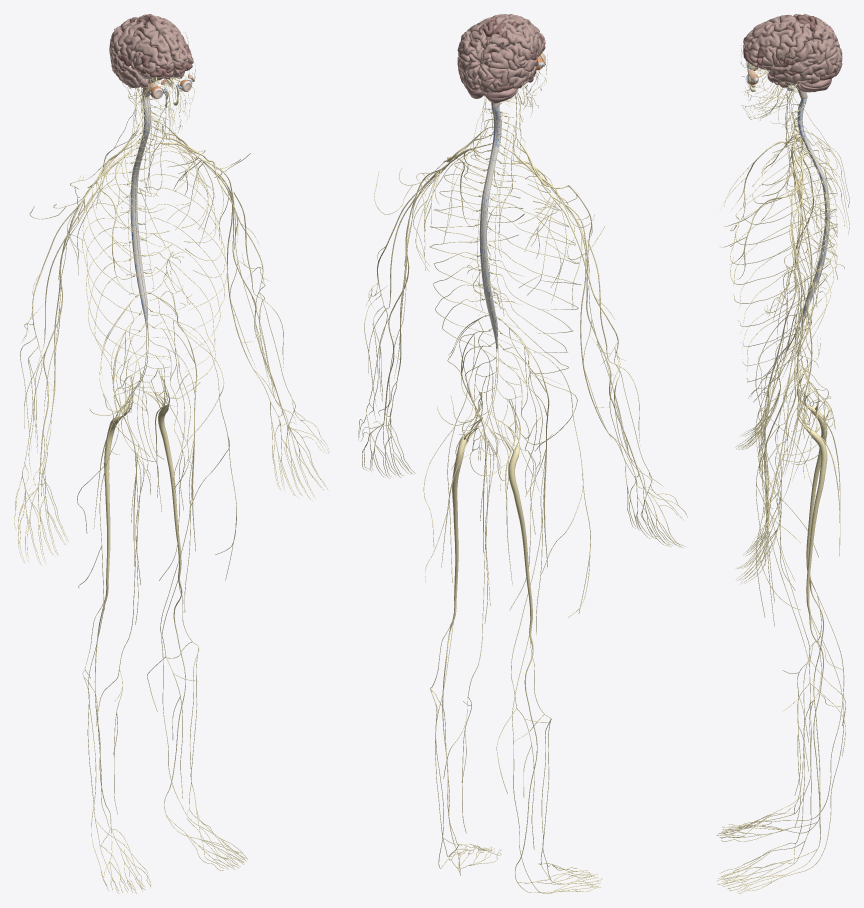
3 renders of one model, left to right at view 1: azimuth 30°, elevation 25°; view 2: azimuth 150°, elevation 25°; view 3: azimuth 270°, elevation 25°, orthographic. The views are drawn at different scales.
Parts seen in each view (by area): view 1: Nerve_Intercostal_Nerves_Right, Nerve_Intercostal_Nerves_Left, Spinal_White_Matter_Of_Spinal_Cord, Nerve_Sciatic_Nerve_Right, Nerve_Sciatic_Nerve_Left, Brain_Middle_Frontal_Gyrus_Right; view 2: Spinal_White_Matter_Of_Spinal_Cord, Nerve_Intercostal_Nerves_Left, Nerve_Intercostal_Nerves_Right, Nerve_Sciatic_Nerve_Right, Nerve_Sciatic_Nerve_Left, Nerve_Saphenous_Nerve_Right; view 3: Nerve_Intercostal_Nerves_Left, Nerve_Intercostal_Nerves_Right, Spinal_White_Matter_Of_Spinal_Cord, Nerve_Sciatic_Nerve_Left, Nerve_Sciatic_Nerve_Right, Brain_Middle_Frontal_Gyrus_Left, Nerve_Saphenous_Nerve_Left, Nerve_Lateral_Femoral_Cutaneous_Nerve_Left, Nerve_Median_Nerve_Left, Nerve_Saphenous_Nerve_Right, Brain_Middle_Temporal_Gyrus_Left, Brain_Precentral_Gyrus_Left (+18 smaller).
Part boxes in pixels (box(x1,y1,x2,y2)): Nerve_Intercostal_Nerves_Right: box(82, 148, 173, 393); Nerve_Intercostal_Nerves_Left: box(142, 143, 227, 389); Spinal_White_Matter_Of_Spinal_Cord: box(130, 96, 150, 335); Nerve_Sciatic_Nerve_Right: box(104, 376, 132, 595); Nerve_Sciatic_Nerve_Left: box(146, 369, 181, 577); Brain_Middle_Frontal_Gyrus_Right: box(133, 30, 166, 74); Spinal_White_Matter_Of_Spinal_Cord: box(479, 105, 501, 351); Nerve_Intercostal_Nerves_Left: box(429, 154, 524, 369); Nerve_Intercostal_Nerves_Right: box(491, 163, 581, 373); Nerve_Sciatic_Nerve_Right: box(495, 399, 532, 632); Nerve_Sciatic_Nerve_Left: box(452, 393, 481, 613); Nerve_Saphenous_Nerve_Right: box(496, 452, 545, 849); Nerve_Intercostal_Nerves_Left: box(730, 153, 837, 382); Nerve_Intercostal_Nerves_Right: box(730, 140, 837, 371); Spinal_White_Matter_Of_Spinal_Cord: box(797, 98, 830, 329); Nerve_Sciatic_Nerve_Left: box(797, 384, 827, 612); Nerve_Sciatic_Nerve_Right: box(797, 371, 827, 577); Brain_Middle_Frontal_Gyrus_Left: box(745, 29, 794, 63); Nerve_Saphenous_Nerve_Left: box(761, 453, 845, 827); Nerve_Lateral_Femoral_Cutaneous_Nerve_Left: box(755, 340, 818, 617); Nerve_Median_Nerve_Left: box(769, 198, 802, 508); Nerve_Saphenous_Nerve_Right: box(761, 423, 845, 795); Brain_Middle_Temporal_Gyrus_Left: box(773, 60, 827, 82); Brain_Precentral_Gyrus_Left: box(775, 21, 803, 62).
Bounding box in the file's own units: 0.6675 × 1.69 × 0.2426.
